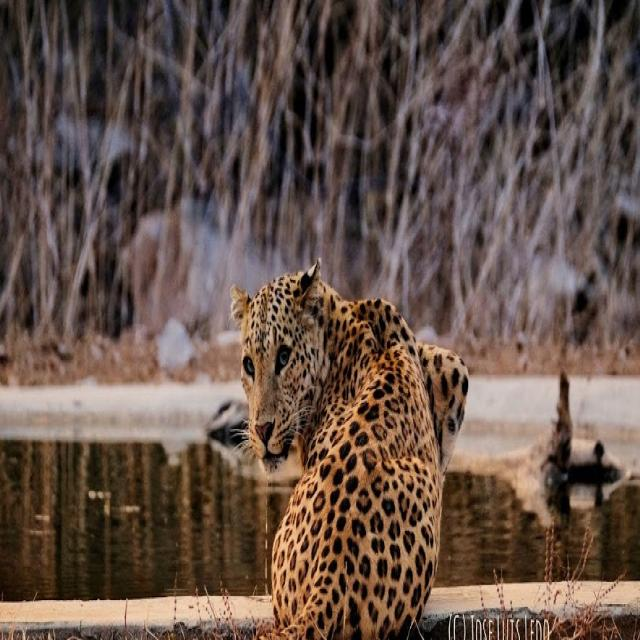Leopard: (230, 262, 468, 638)
